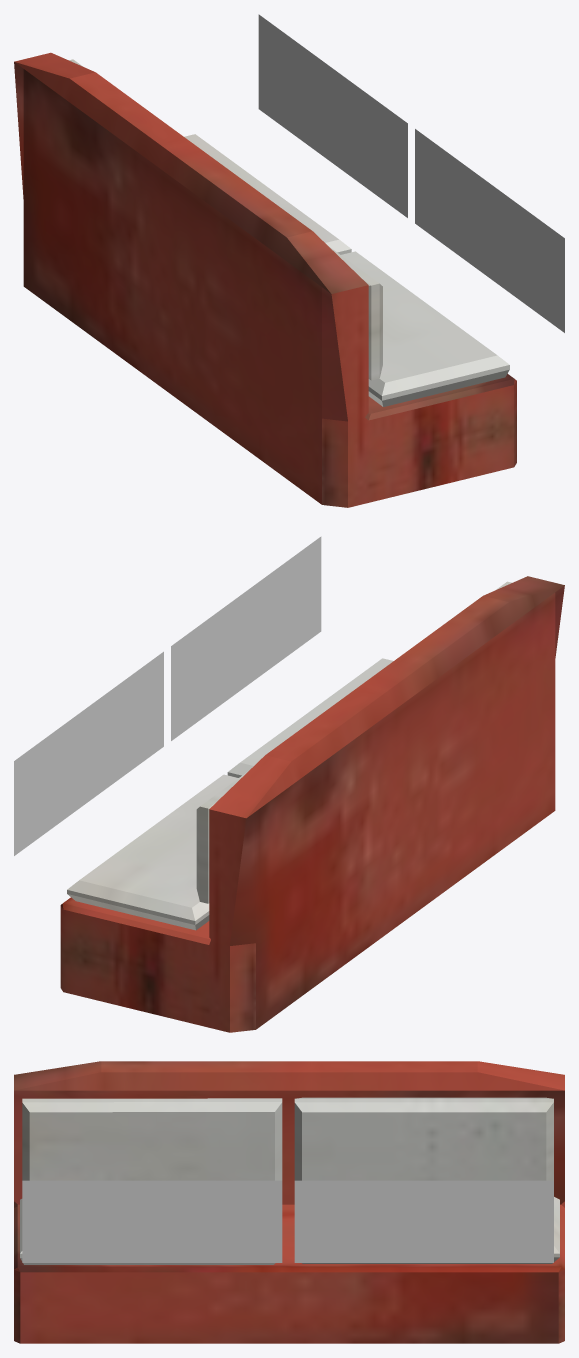
Rendered from couch.fbx.
3 renders of one model, top to bottom at view 1: azimuth 30°, elevation 25°; view 2: azimuth 150°, elevation 25°; view 3: azimuth 270°, elevation 25°, orthographic. The views are drawn at different scales.
Visible parts, largest first — view 1: Cube, Plane.001, Plane; view 2: Cube, Plane, Plane.001; view 3: Cube, Plane, Plane.001.
Part boxes in pixels (x1,y1,x2,y2): Cube: [14, 52, 516, 507]; Plane.001: [258, 14, 407, 217]; Plane: [415, 129, 564, 332]; Cube: [60, 576, 564, 1032]; Plane: [171, 536, 321, 740]; Plane.001: [14, 651, 163, 855]; Cube: [14, 1061, 564, 1343]; Plane: [22, 1180, 282, 1262]; Plane.001: [294, 1180, 553, 1262].
Bounding box in the file's own units: 86.59 × 82.09 × 200.
